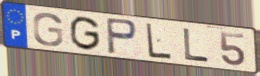5: (218, 30, 247, 67)
G: (68, 15, 102, 52), (31, 12, 65, 48)
L: (144, 21, 173, 60), (182, 27, 211, 64)
P: (105, 17, 140, 57)
